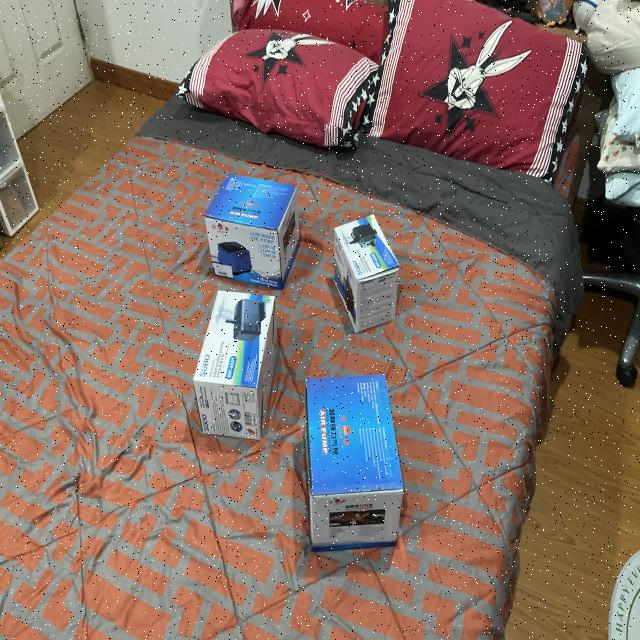SOBO_WP_4200: (192, 286, 290, 444), (332, 214, 410, 338)
YAMANO_LPP_20: (300, 368, 416, 554), (204, 164, 310, 291)
